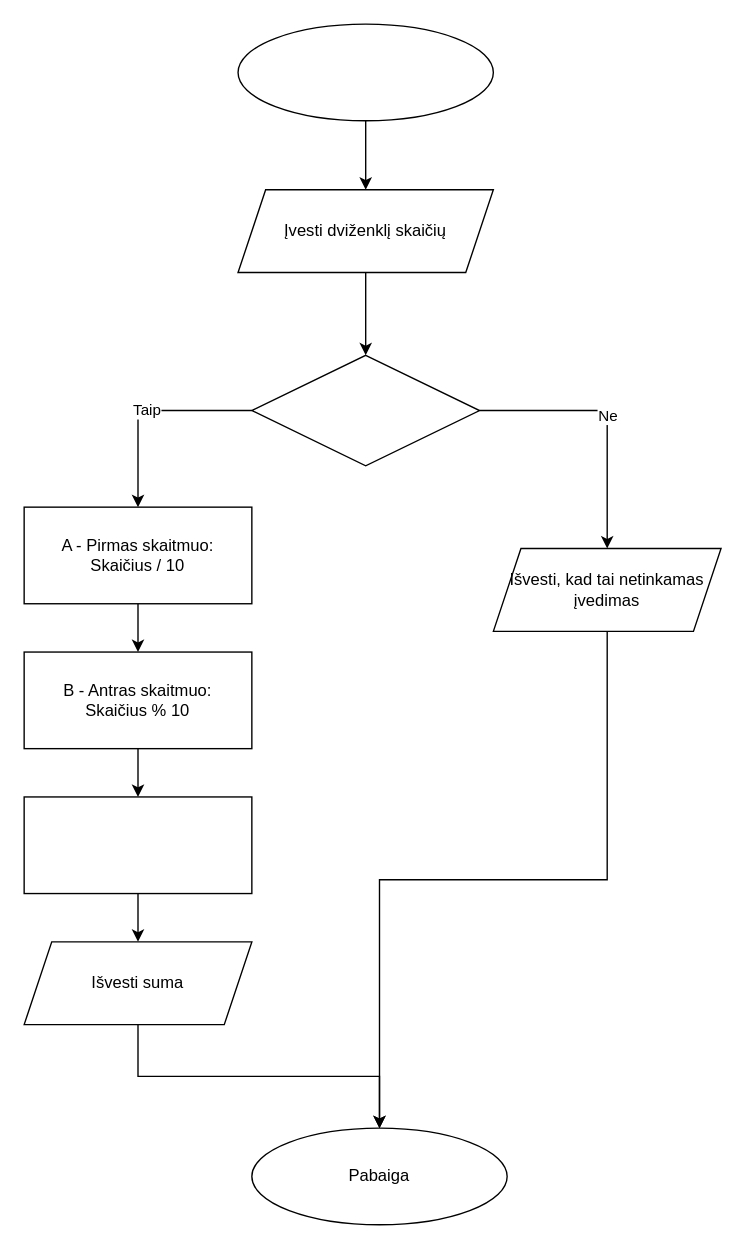
The diagram is 745 pixels wide and 1249 high, and some of its shapes have lost their labels. Here are the shapes that lost their labels. From the top down, the centre of each, then its label:
At [365,72]: "Pradžia".
At [365,410]: "Skaičius yra dviženklis?".
At [137,845]: "Gauti suma: A + B".
